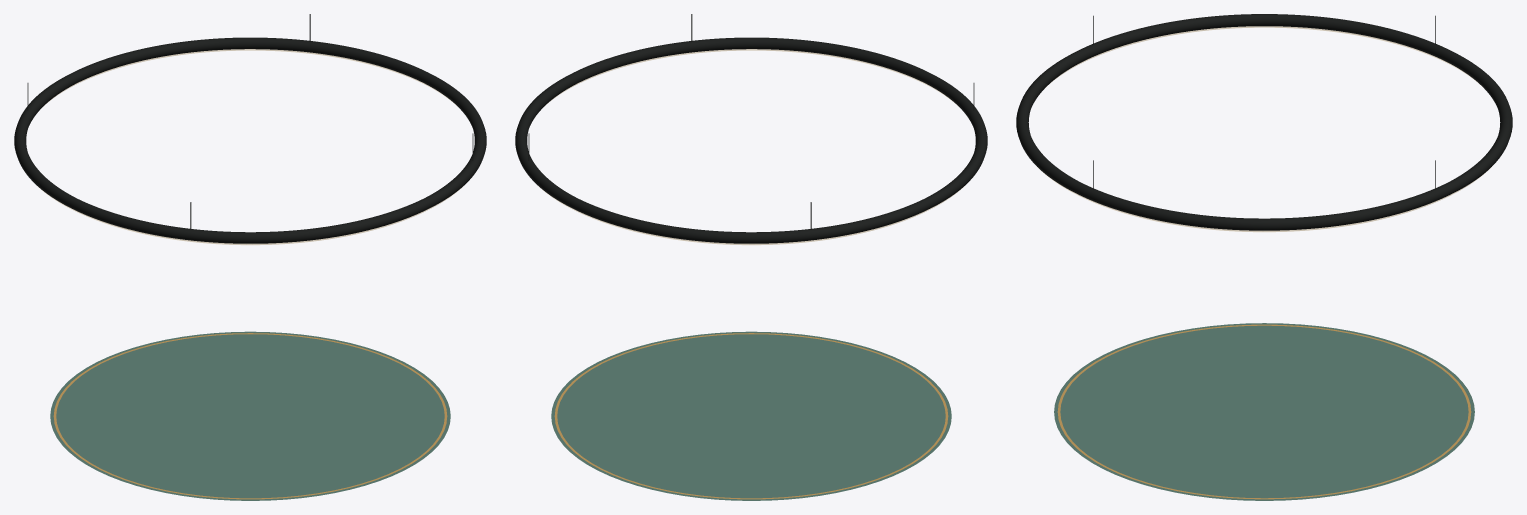
File: Ring_Light_and_Rug.glb
The picture shows the model from 3 angles, left to right: view 1: azimuth 30°, elevation 25°; view 2: azimuth 150°, elevation 25°; view 3: azimuth 270°, elevation 25°; orthographic projection. The views are drawn at different scales.
Parts seen in each view (by area): view 1: Ring_Light_and_Rug_Rug, Ring_Light_and_Rug_Black_Metal, Ring_Light_and_Rug_Brass, Ring_Light_and_Rug_Light_Strips; view 2: Ring_Light_and_Rug_Rug, Ring_Light_and_Rug_Black_Metal, Ring_Light_and_Rug_Brass, Ring_Light_and_Rug_Light_Strips; view 3: Ring_Light_and_Rug_Rug, Ring_Light_and_Rug_Black_Metal, Ring_Light_and_Rug_Brass, Ring_Light_and_Rug_Light_Strips.
Boxes of the visible parts, <box> form: Ring_Light_and_Rug_Rug: <box>50,331,450,500</box>; Ring_Light_and_Rug_Black_Metal: <box>14,14,486,243</box>; Ring_Light_and_Rug_Brass: <box>53,333,447,499</box>; Ring_Light_and_Rug_Light_Strips: <box>37,49,463,245</box>; Ring_Light_and_Rug_Rug: <box>551,331,951,500</box>; Ring_Light_and_Rug_Black_Metal: <box>515,14,987,243</box>; Ring_Light_and_Rug_Brass: <box>554,333,948,499</box>; Ring_Light_and_Rug_Light_Strips: <box>538,49,964,245</box>; Ring_Light_and_Rug_Rug: <box>1054,323,1474,500</box>; Ring_Light_and_Rug_Black_Metal: <box>1016,14,1512,230</box>; Ring_Light_and_Rug_Brass: <box>1057,324,1471,499</box>; Ring_Light_and_Rug_Light_Strips: <box>1037,26,1491,232</box>.
Bounding box in the file's own units: 4.72 × 3.4 × 4.72.
